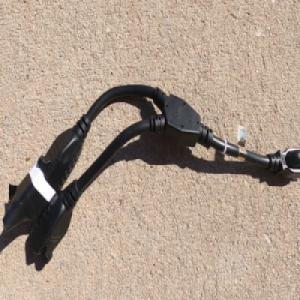Wire: (2, 81, 300, 265)
